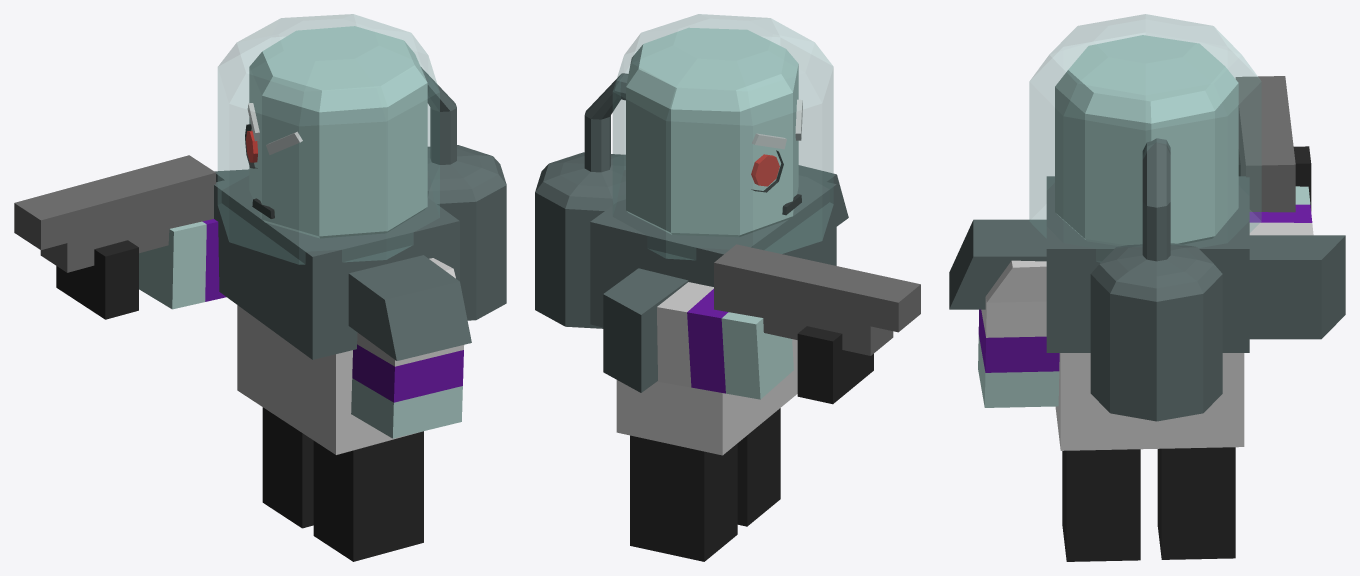
File: Enemy_Walk+Shoot.fbx
3 views of the same model, side by side, from view 1: azimuth 30°, elevation 25°; view 2: azimuth 150°, elevation 25°; view 3: azimuth 270°, elevation 25° (orthographic).
Visible parts, largest first — view 1: Cube.115; view 2: Cube.115; view 3: Cube.115.
Boxes of the visible parts, box(x1,y1,x2,y2) form: Cube.115: box(14, 14, 506, 561); Cube.115: box(535, 14, 920, 561); Cube.115: box(949, 14, 1345, 561).
Size of the model in its own units: 178 by 197 by 143.
